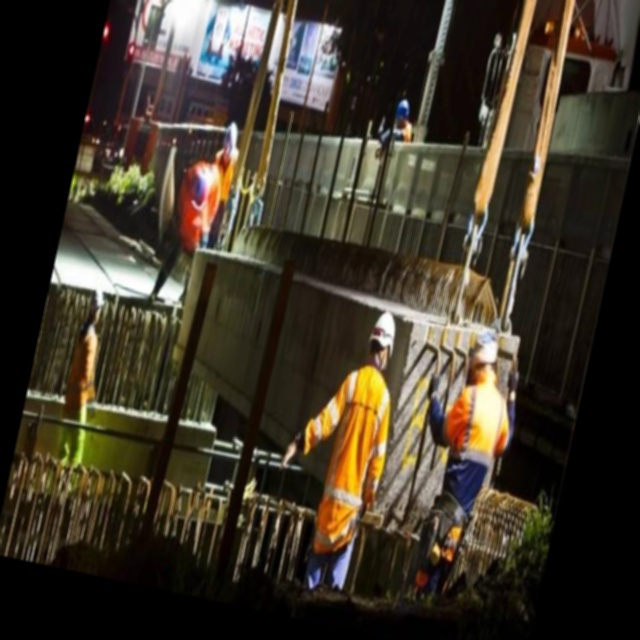Con_Casco: (364, 309, 402, 369)
Con_Chaleco: (313, 364, 403, 544)
